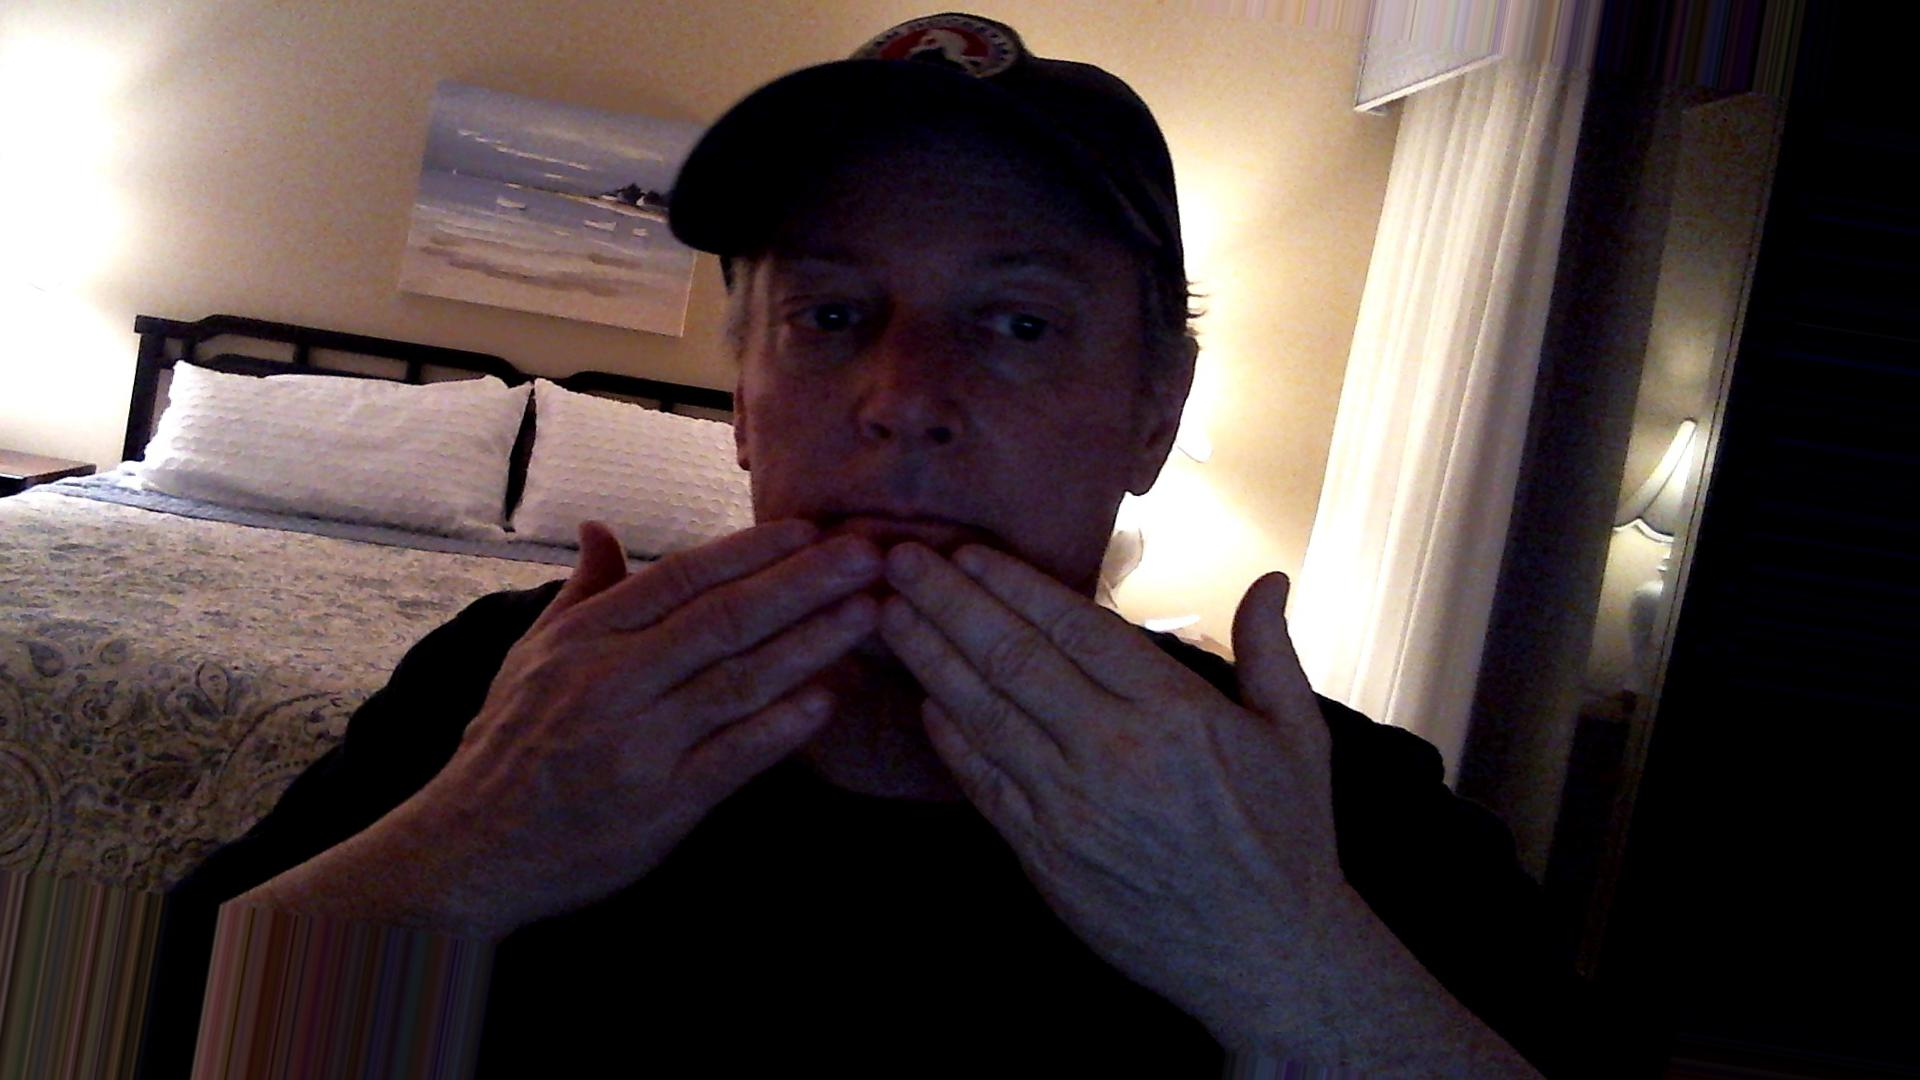Thank You: (473, 492, 1357, 899)
